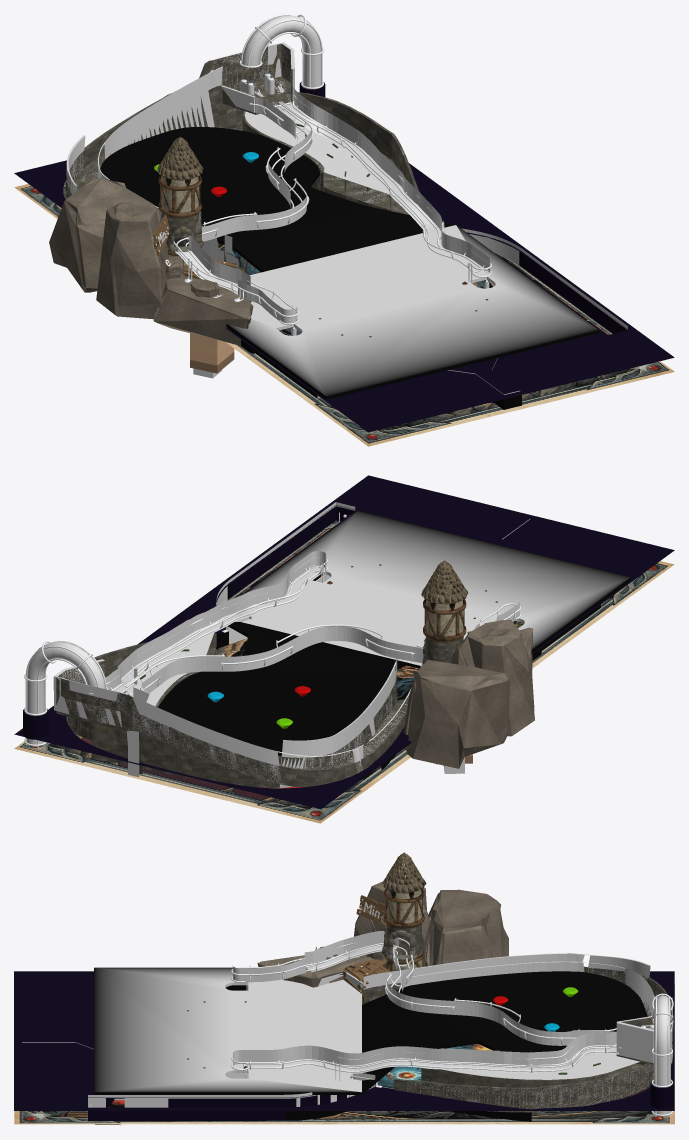
File: PinballMVP_Base_old-transformed.glb
3 views of the same model, one above another, from view 1: azimuth 30°, elevation 25°; view 2: azimuth 150°, elevation 25°; view 3: azimuth 270°, elevation 25° (orthographic). The views are drawn at different scales.
Visible parts, largest first — view 1: coll_glass_panel.001, visual_standard, visual_mine, visual_playfield_left_hole, coll_ramp_back_test, visual_ramp_back_test.001, coll_visual_habit_right_9_top, coll_visual_habit_right_left_9_top.002, visual_faquir, coll_faquir_glass_panel.001, coll_habit_vuk, visual_habit_right_left_9_top.002 (+10 smaller); view 2: coll_glass_panel.001, visual_standard, visual_mine, visual_ramp_back_test.001, coll_ramp_back_test, visual_playfield_left_hole, coll_visual_habit_right_9_top, coll_visual_habit_right_left_9_top.002, coll_habit_vuk, visual_sidewalls.002, visual_habit_right_9_top, visual_faquir (+9 smaller); view 3: coll_glass_panel.001, visual_standard, visual_mine, visual_playfield_left_hole, coll_visual_habit_right_9_top, visual_faquir, coll_ramp_back_test, coll_visual_habit_right_left_9_top.002, visual_sidewalls.002, visual_habit_right_9_top, coll_faquir_glass_panel.001, visual_habit_right_left_9_top.002 (+12 smaller).
Boxes of the visible parts, left/top/right/bottom form: coll_glass_panel.001: left=100, top=127, right=599, bottom=399; visual_standard: left=14, top=160, right=674, bottom=432; visual_mine: left=49, top=178, right=253, bottom=345; visual_playfield_left_hole: left=14, top=180, right=674, bottom=446; coll_ramp_back_test: left=66, top=42, right=294, bottom=268; visual_ramp_back_test.001: left=66, top=44, right=292, bottom=261; coll_visual_habit_right_9_top: left=276, top=88, right=490, bottom=272; coll_visual_habit_right_left_9_top.002: left=175, top=97, right=311, bottom=323; visual_faquir: left=242, top=92, right=419, bottom=214; coll_faquir_glass_panel.001: left=244, top=109, right=388, bottom=193; coll_habit_vuk: left=242, top=15, right=321, bottom=89; visual_habit_right_left_9_top.002: left=173, top=101, right=313, bottom=324; coll_glass_panel.001: left=158, top=510, right=631, bottom=756; visual_standard: left=14, top=475, right=674, bottom=809; visual_mine: left=403, top=619, right=534, bottom=768; visual_ramp_back_test.001: left=56, top=660, right=408, bottom=787; coll_ramp_back_test: left=53, top=658, right=422, bottom=787; visual_playfield_left_hole: left=14, top=520, right=674, bottom=823; coll_visual_habit_right_9_top: left=105, top=551, right=326, bottom=693; coll_visual_habit_right_left_9_top.002: left=141, top=602, right=519, bottom=693; coll_habit_vuk: left=26, top=641, right=105, bottom=744; visual_sidewalls.002: left=230, top=506, right=354, bottom=597; visual_habit_right_9_top: left=106, top=557, right=327, bottom=693; visual_faquir: left=66, top=633, right=217, bottom=760; coll_glass_panel.001: left=94, top=967, right=647, bottom=1094; visual_standard: left=14, top=971, right=674, bottom=1110; visual_mine: left=257, top=880, right=508, bottom=1003; visual_playfield_left_hole: left=14, top=985, right=674, bottom=1124; coll_visual_habit_right_9_top: left=233, top=1032, right=616, bottom=1073; visual_faquir: left=393, top=1061, right=653, bottom=1112; coll_ramp_back_test: left=363, top=953, right=673, bottom=1063; coll_visual_habit_right_left_9_top.002: left=232, top=931, right=615, bottom=1045; visual_sidewalls.002: left=88, top=1095, right=349, bottom=1120; visual_habit_right_9_top: left=231, top=1044, right=621, bottom=1081; coll_faquir_glass_panel.001: left=441, top=1050, right=639, bottom=1079; visual_habit_right_left_9_top.002: left=231, top=937, right=616, bottom=1044.
Size of what is drawn, in the model's own units: 36.29 by 21.1 by 60.3.
Materials: 19 (18 with a texture image).
